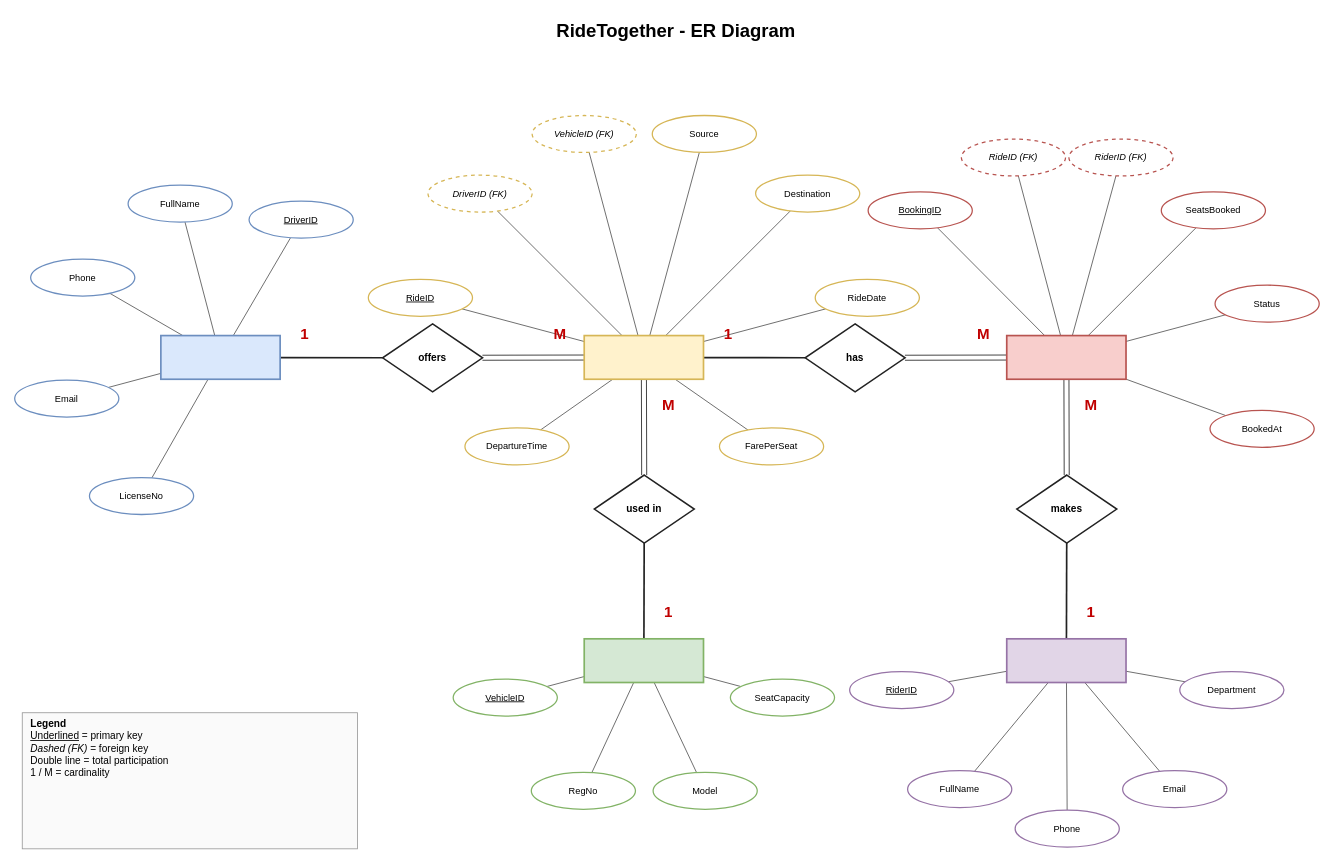
Some shapes in this 1335 by 864 pixel diagram are drawn without their labels. Each missing label, with the box of its shape:
BOOKING: (1005, 334, 1126, 380)
DRIVER: (160, 334, 281, 380)
RIDE: (583, 334, 704, 380)
RIDER: (1005, 638, 1126, 683)
VEHICLE: (583, 638, 704, 683)
